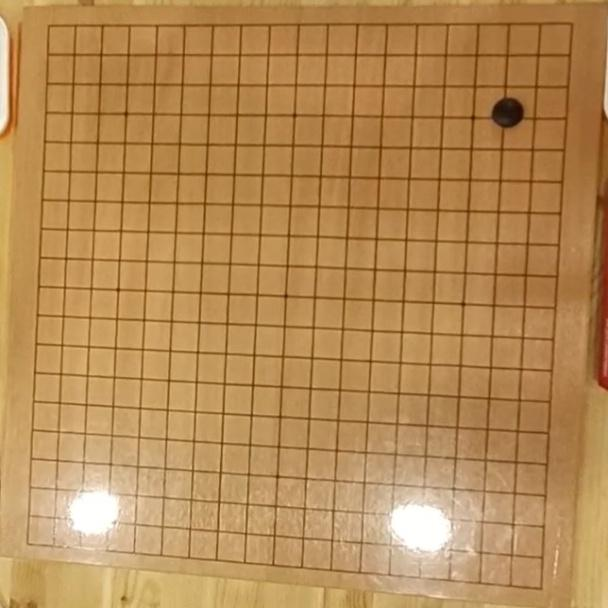corners: (553, 6, 587, 55), (15, 516, 49, 563), (527, 561, 559, 608), (34, 8, 68, 50)
